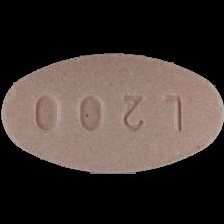16729-079: (0, 0, 224, 224)
